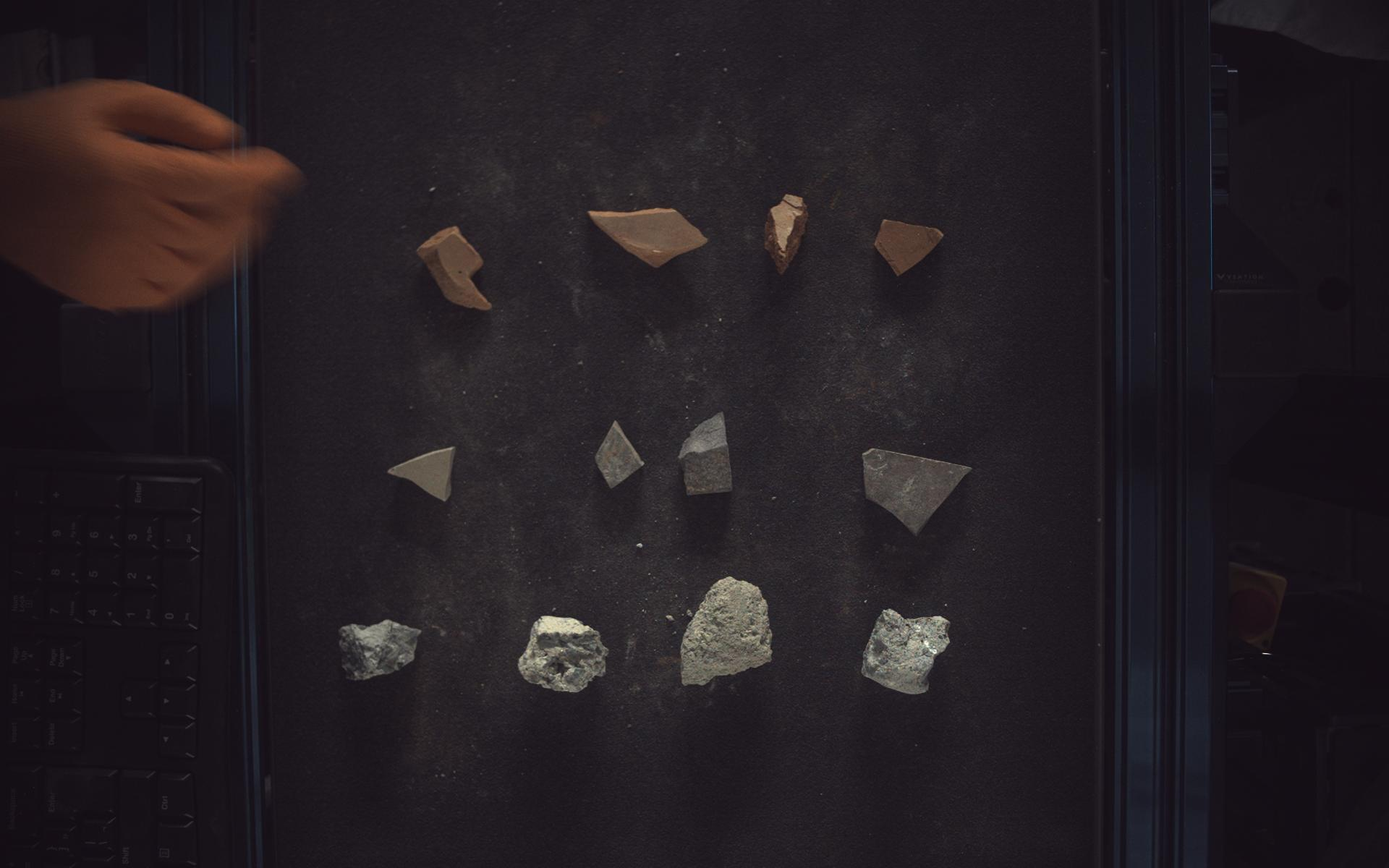brick: (590, 207, 709, 267), (417, 226, 491, 310), (876, 218, 945, 276), (766, 193, 810, 273)
concrete: (683, 577, 773, 686), (864, 610, 951, 696), (519, 617, 608, 694), (339, 621, 420, 681)
tile: (864, 449, 973, 535), (680, 412, 733, 495), (388, 447, 454, 501), (596, 421, 645, 488)
